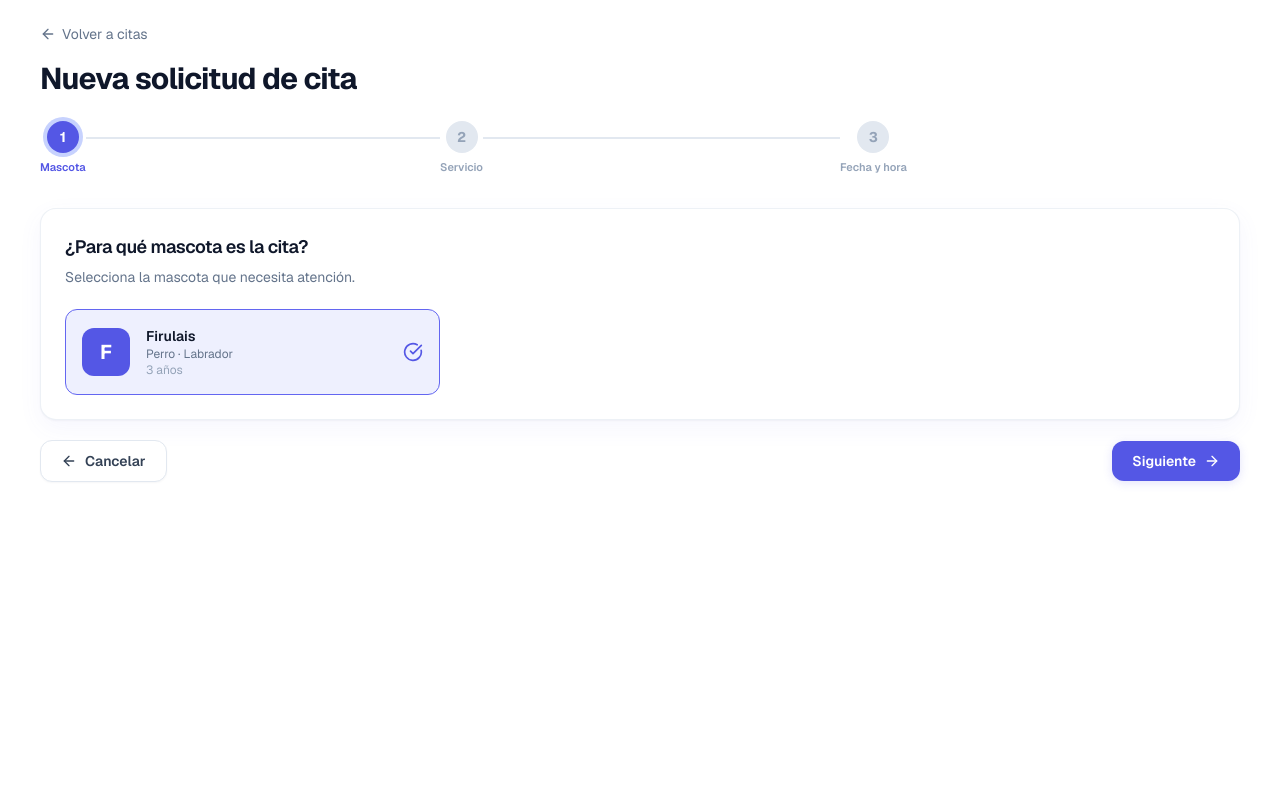
NuevaCitaPage — paso 1: mascota › preselecciona automáticamente la única mascota del usuario
Expected: the text "Firulais" is shown, top-left (146, 326), bottom-right (195, 344)
Click the button "Siguiente".
click(1176, 460)  # box top-left (1112, 440), bottom-right (1240, 480)
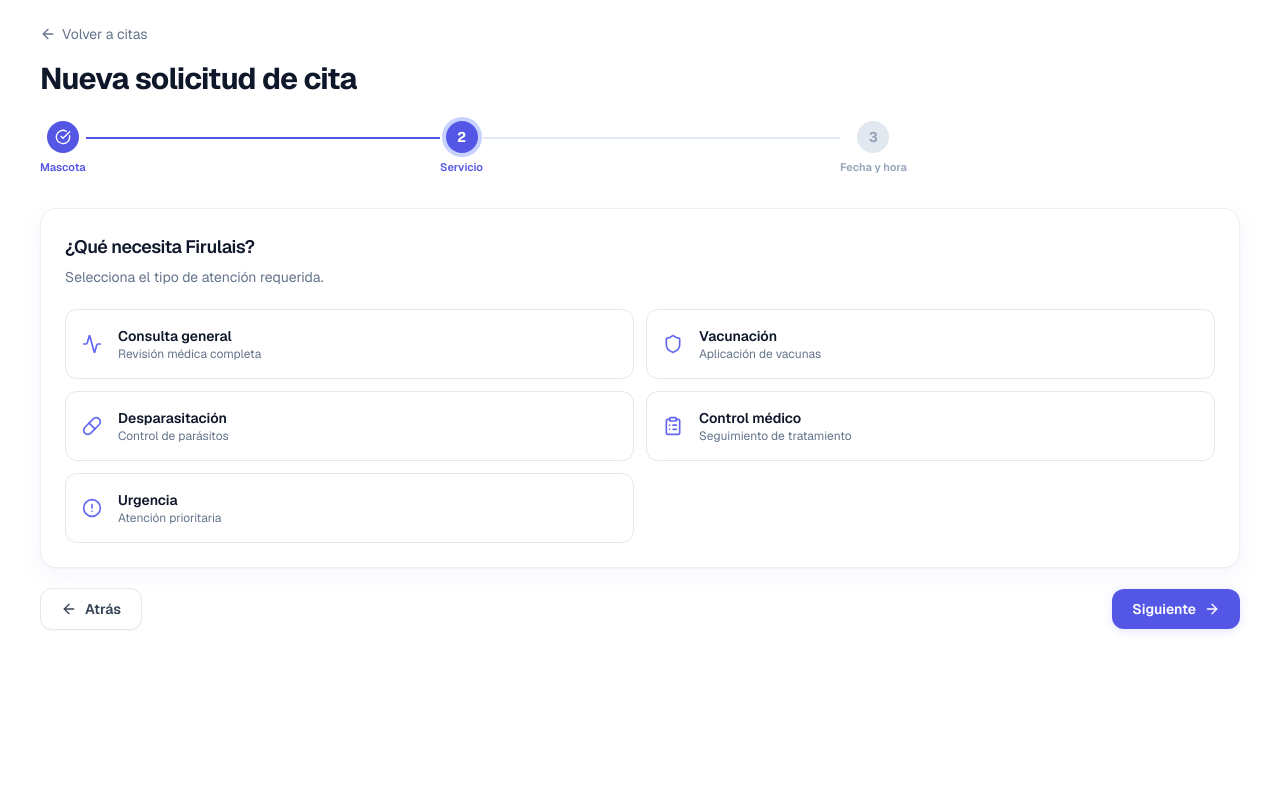
Result: the heading "¿Qué necesita Firulais?" is shown at top-left (65, 234), bottom-right (254, 258)
